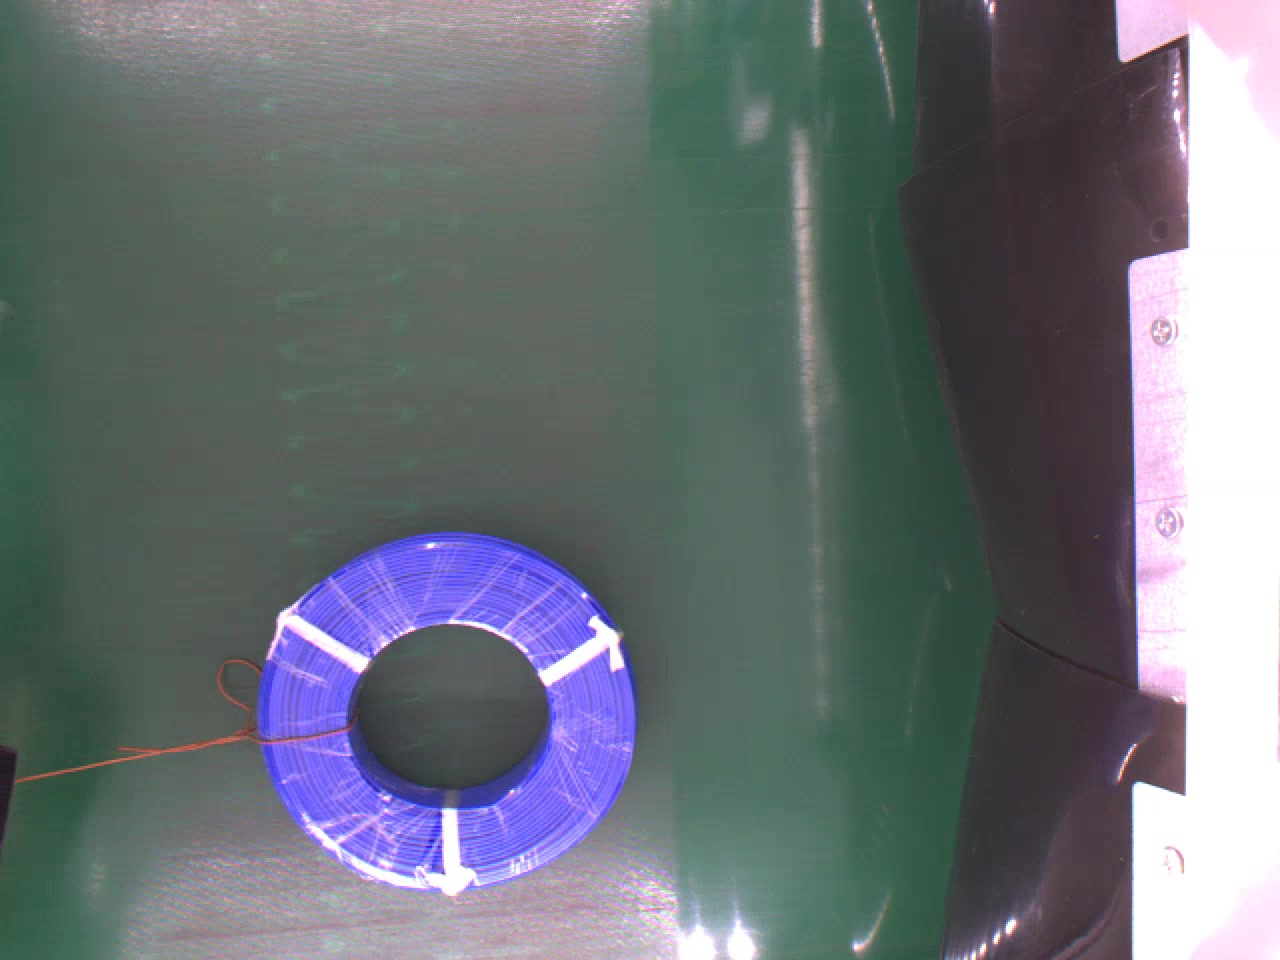blue: (254, 531, 637, 903)
